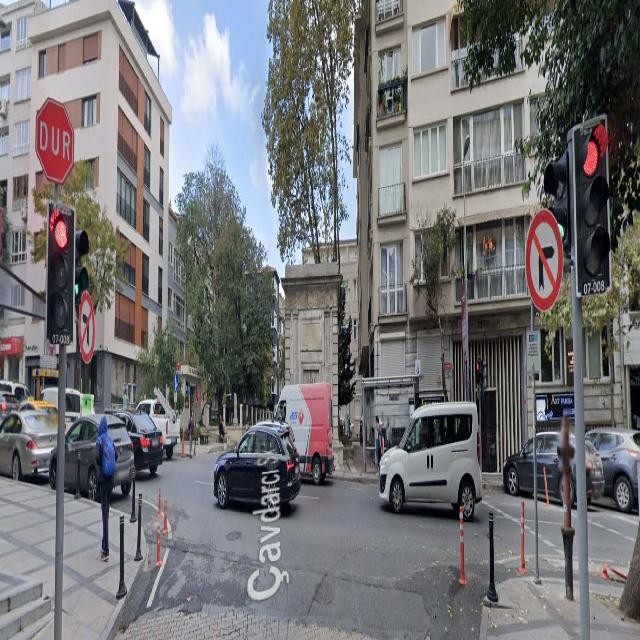dur: (34, 96, 74, 184)
kirmizi: (574, 123, 610, 290), (47, 196, 71, 343)
sagadonulmez: (526, 210, 563, 310)
soladonulmez: (78, 289, 95, 365)
